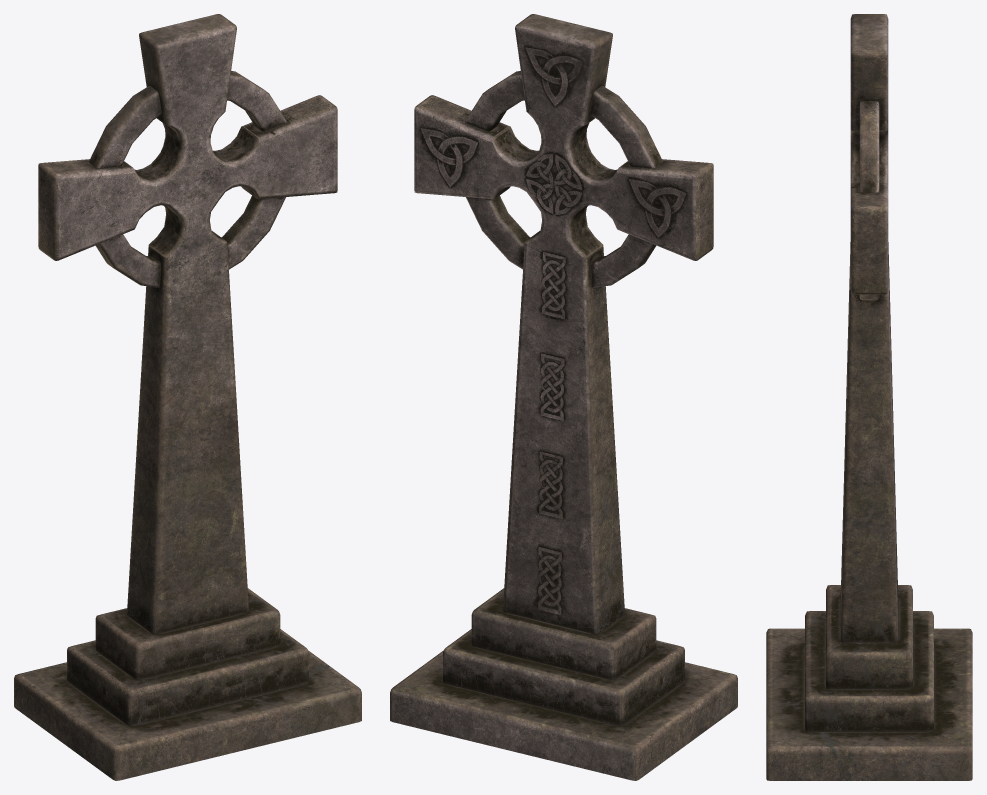
Rendered from SM_gravestone_13.fbx.
3 renders of one model, left to right at view 1: azimuth 30°, elevation 25°; view 2: azimuth 150°, elevation 25°; view 3: azimuth 270°, elevation 25°, orthographic.
Visible parts, largest first — view 1: SM_gravestone_013; view 2: SM_gravestone_013; view 3: SM_gravestone_013.
Boxes of the visible parts, x1=… form: SM_gravestone_013: x1=14, y1=14, x2=361, y2=780; SM_gravestone_013: x1=390, y1=14, x2=737, y2=780; SM_gravestone_013: x1=766, y1=14, x2=972, y2=780.
Bounding box in the file's own units: 54.71 × 126 × 34.38.
